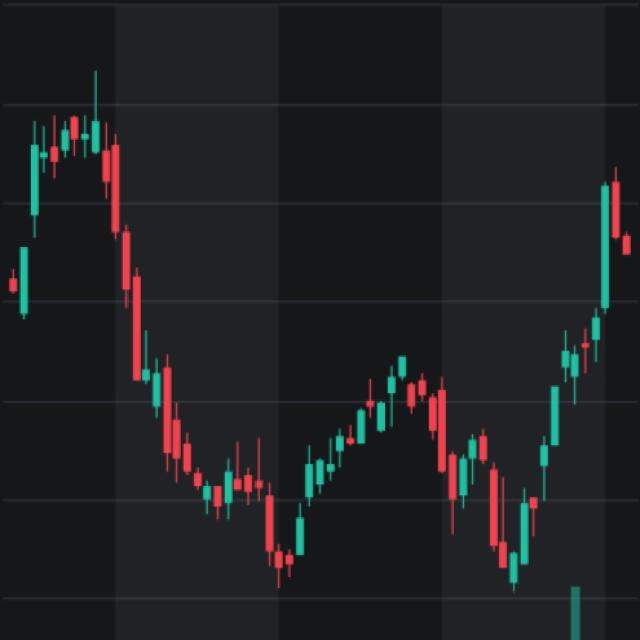Resistance-Emerging: (280, 311, 592, 598)
